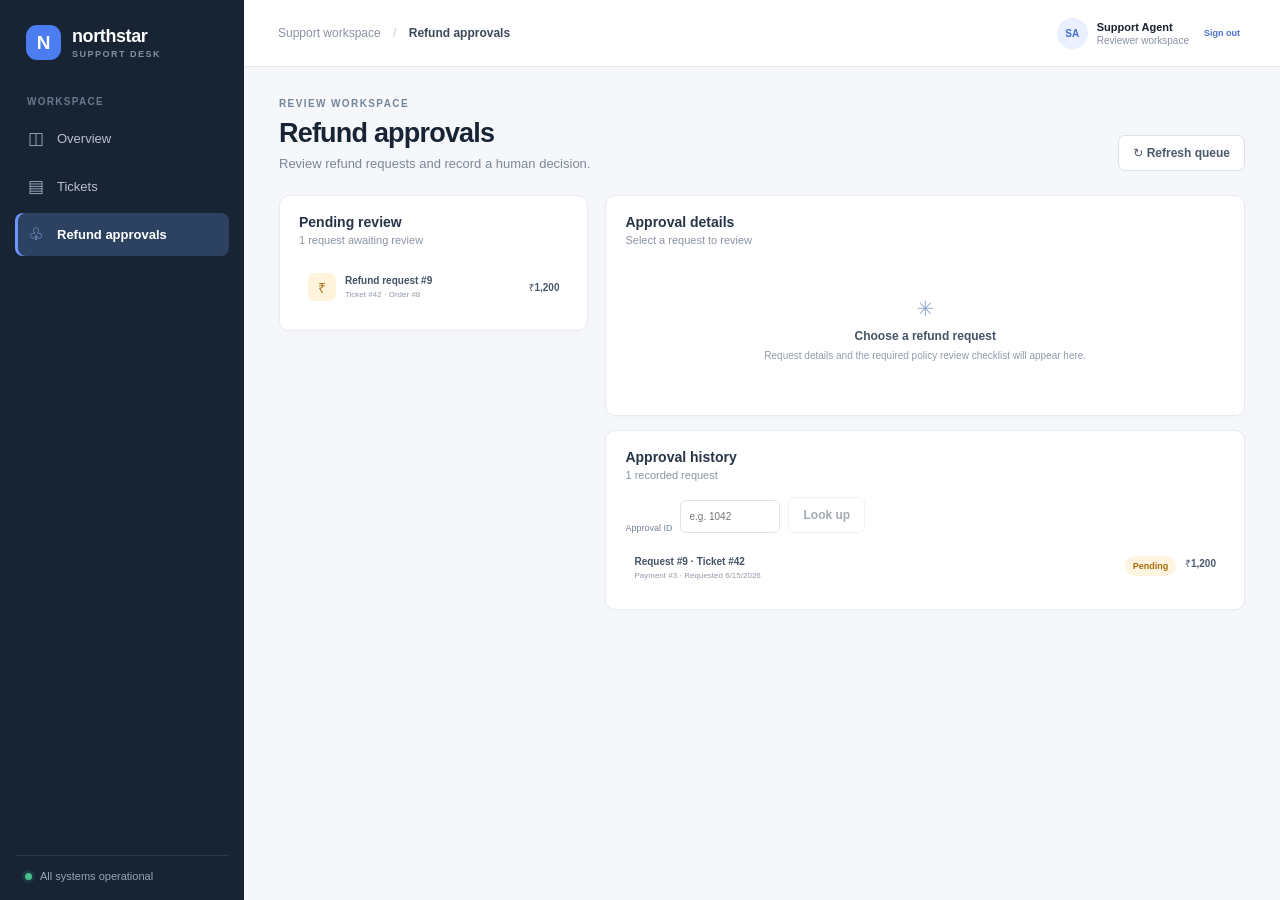
Test: support dashboard › approves a refund, explicitly executes it, and displays the verified result
Click the button "₹ Refund request #9 Ticket #42 · Order #8 ₹1,200" at (434, 287), box [299,262,568,312]
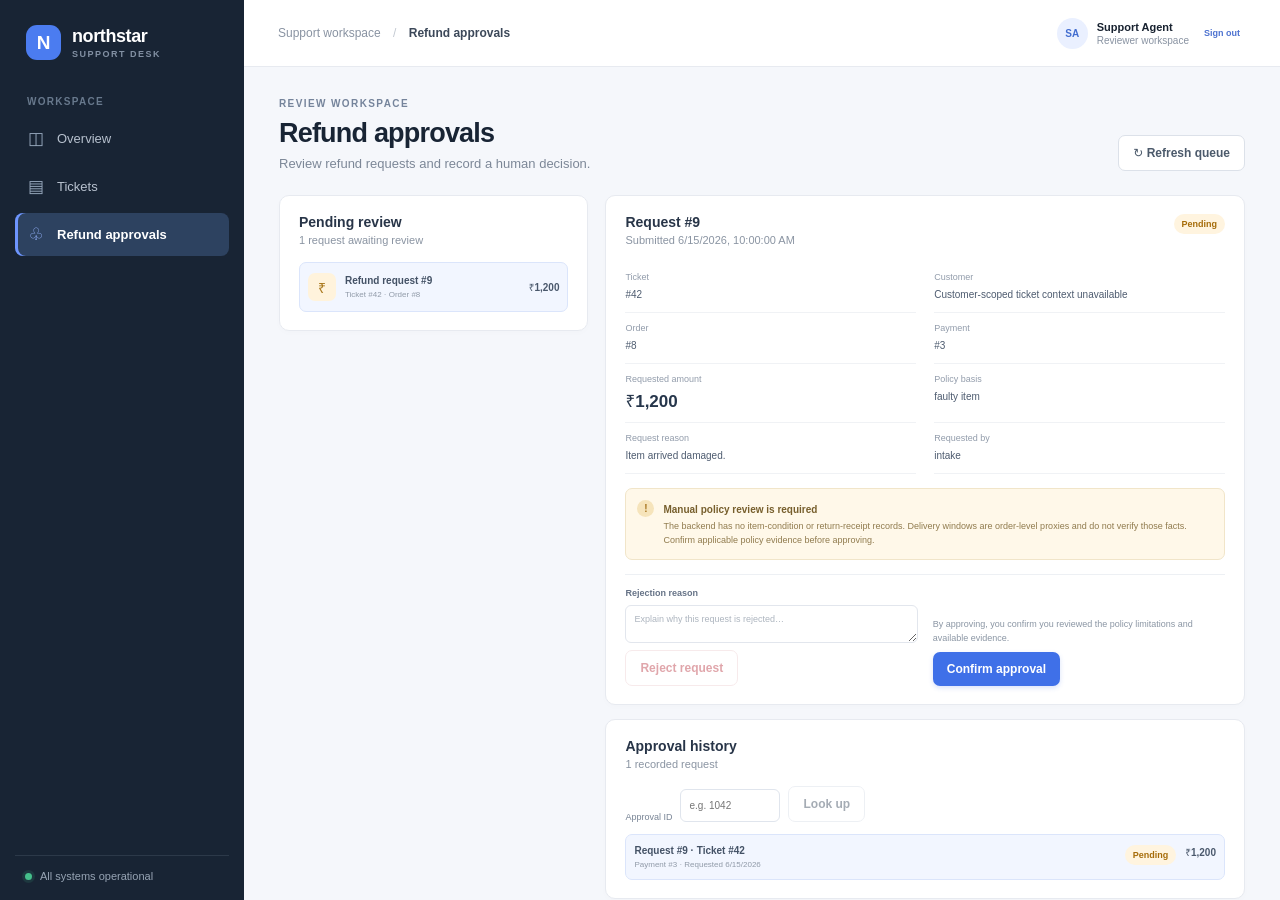
Check: the text "Manual policy review is required" is shown, box [664,504,818,515]
Click the button "Confirm approval" at (996, 669), box [933,652,1060,686]
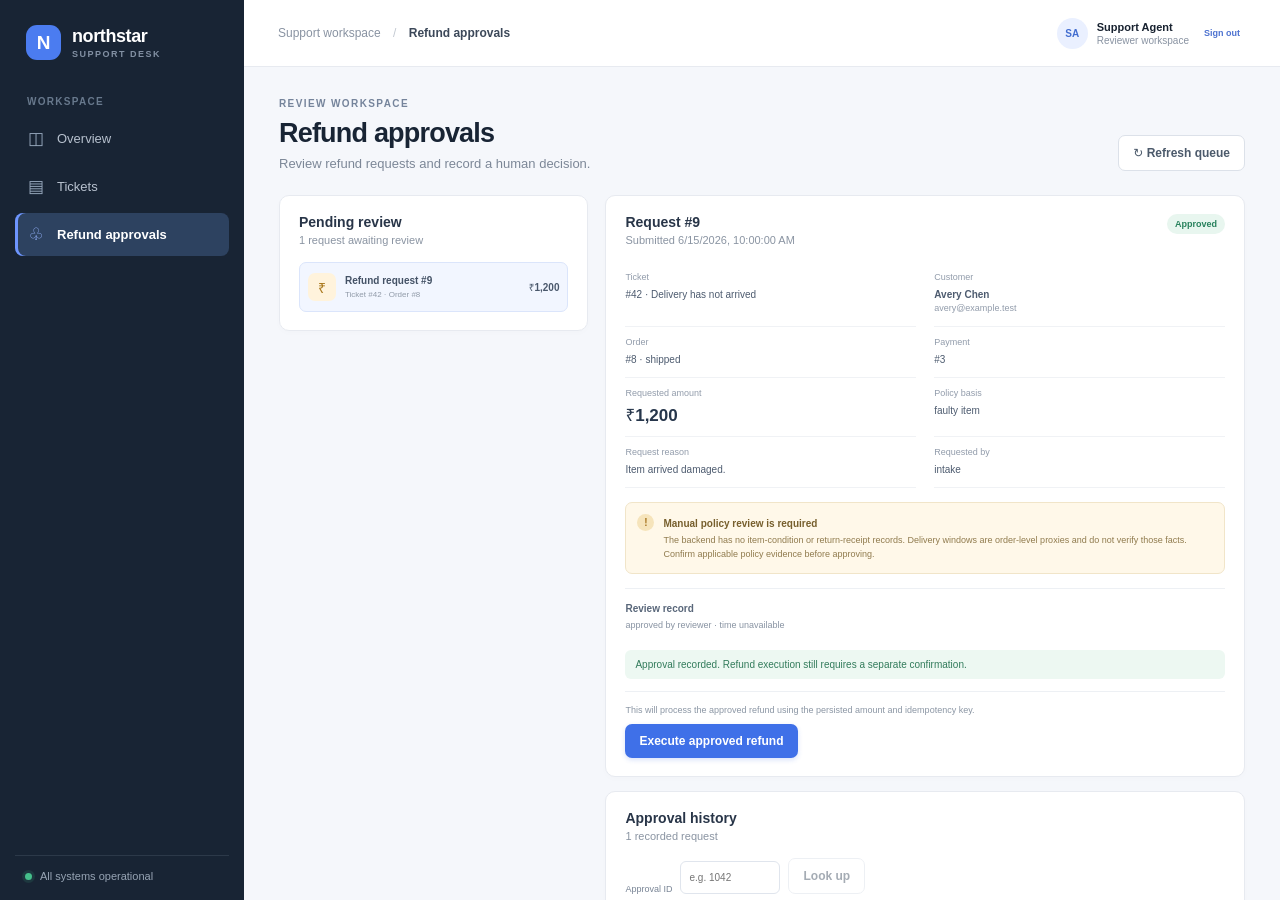
Check: the text "Approval recorded" is shown, box [636,659,967,670]
Click the button "Execute approved refund" at (712, 741), box [626,724,798,758]
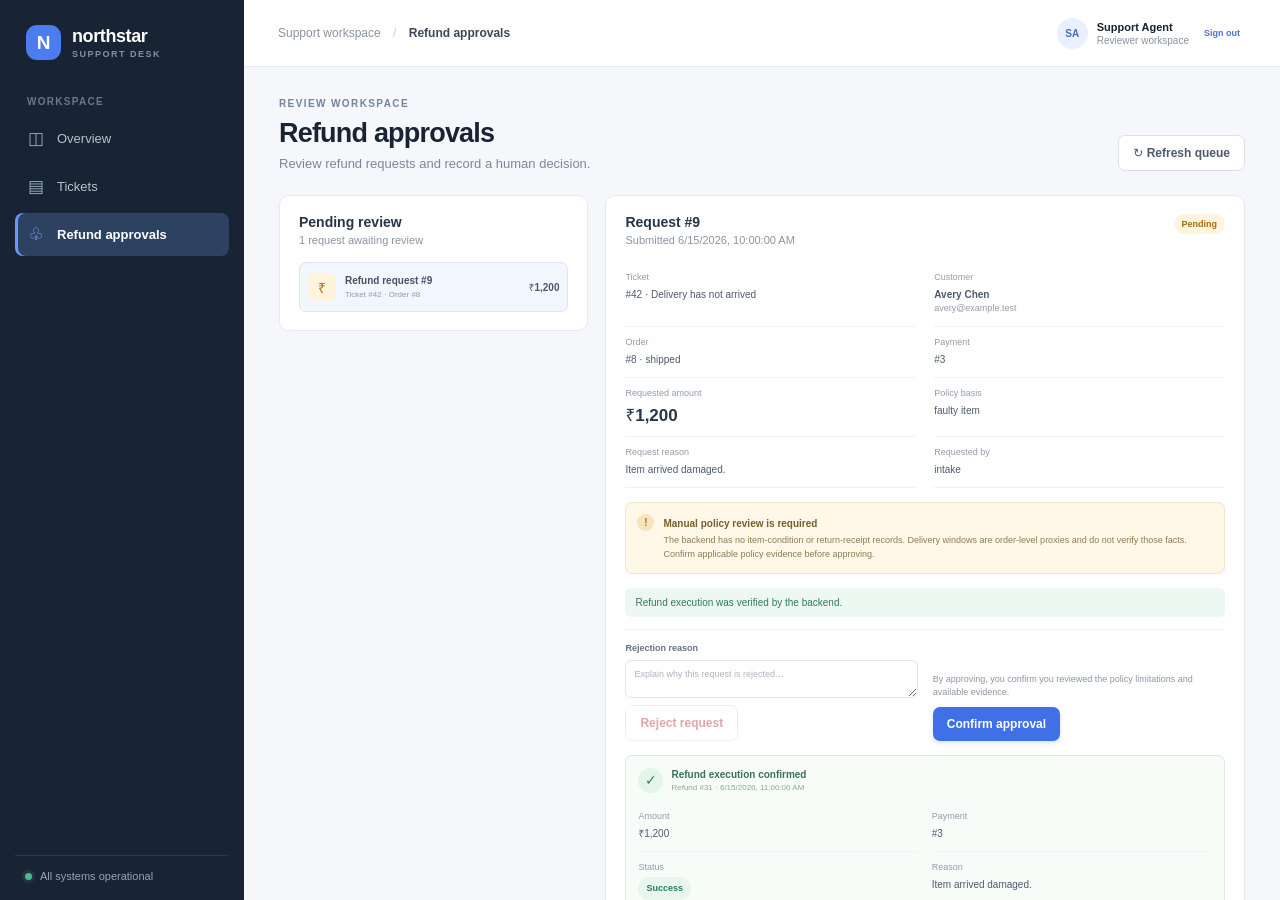
Check: the text "Refund execution confirmed" is shown, box [672,769,806,780]
